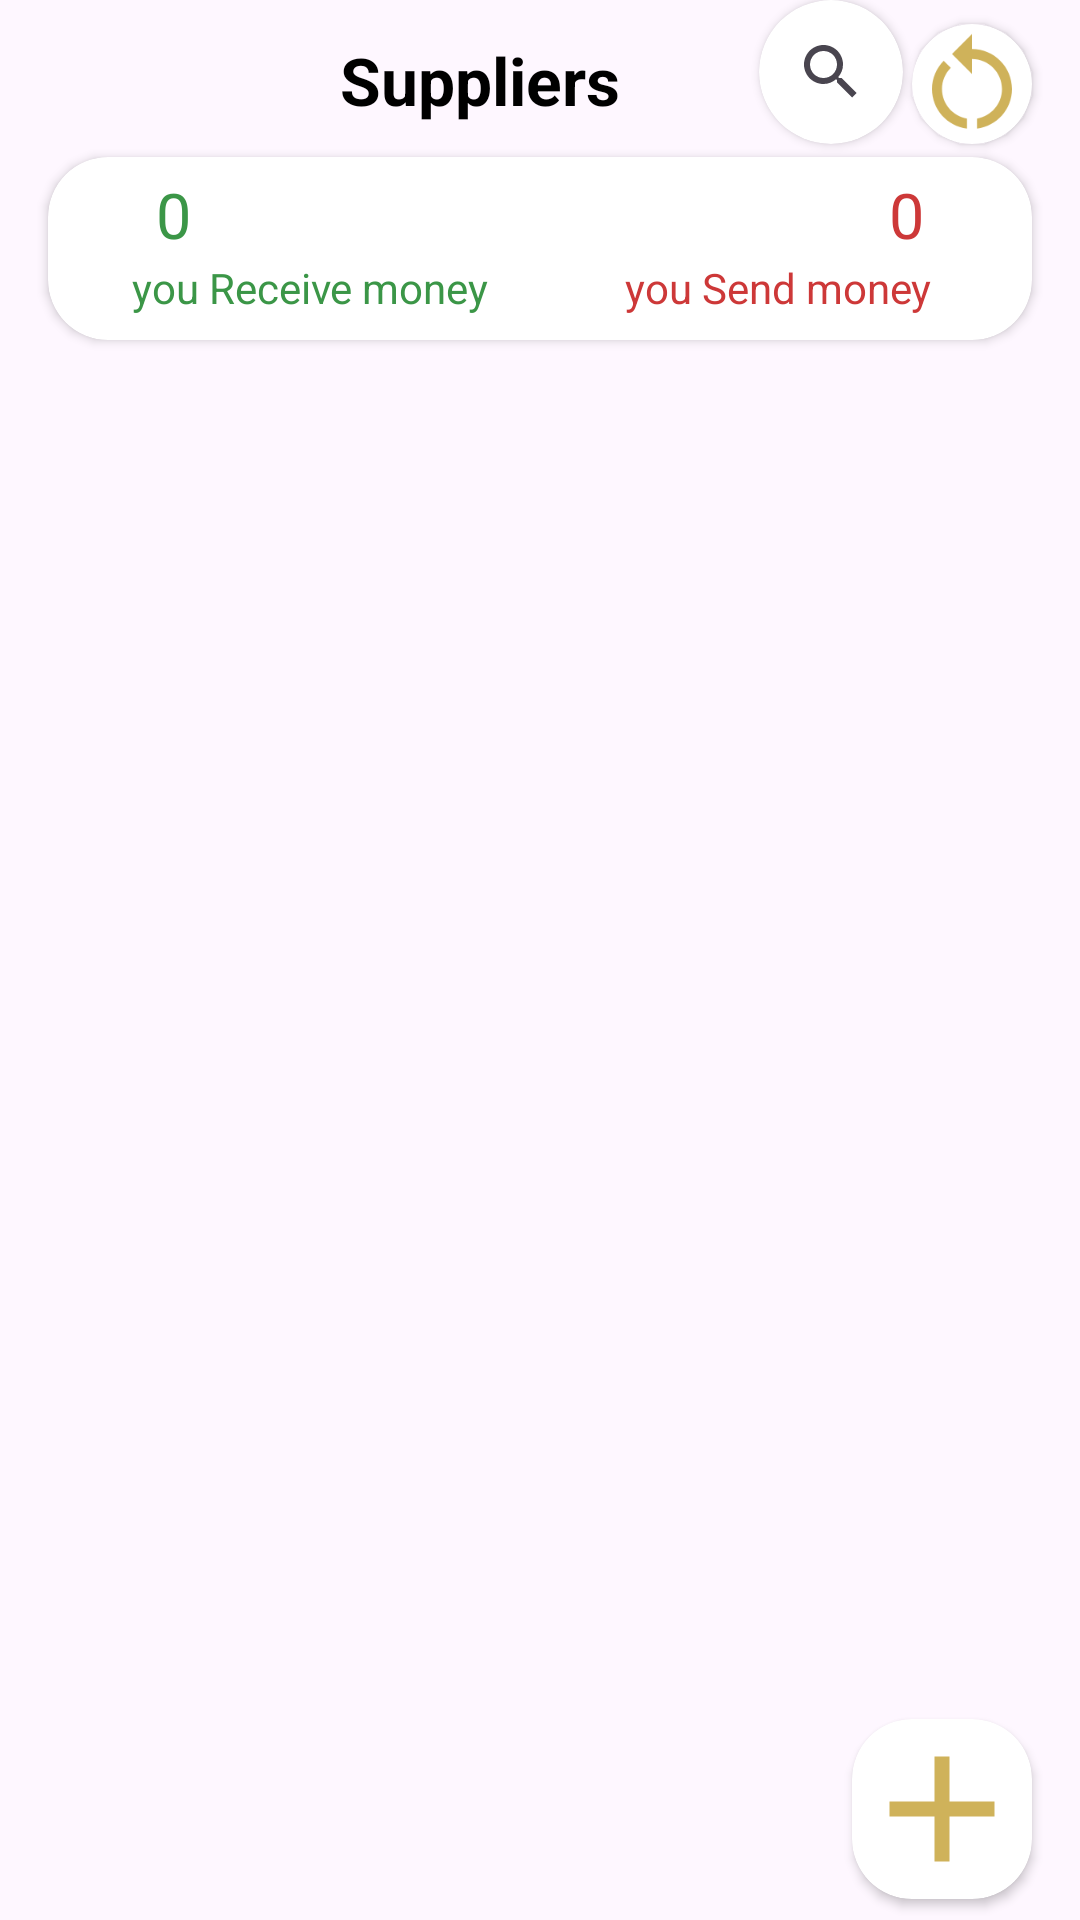

Named icons in this screenshot (1080px x 1920px) and their bounding boxes, bbox(x1, y1, x2, y2):
add: bbox(852, 1719, 1032, 1899)
restart: bbox(912, 24, 1032, 144)
